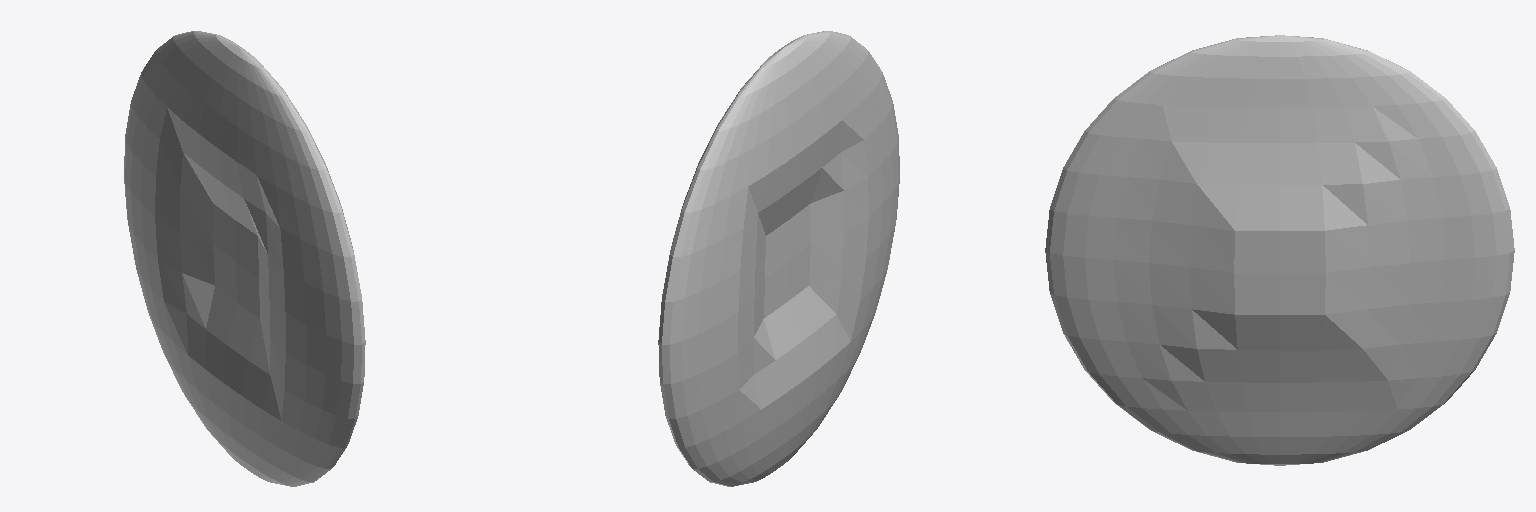
File: shield_000017.obj
3 views of the same model, side by side, from view 1: azimuth 30°, elevation 25°; view 2: azimuth 150°, elevation 25°; view 3: azimuth 270°, elevation 25° (orthographic).
Size of the model in its own units: 0.3804 by 2 by 2.